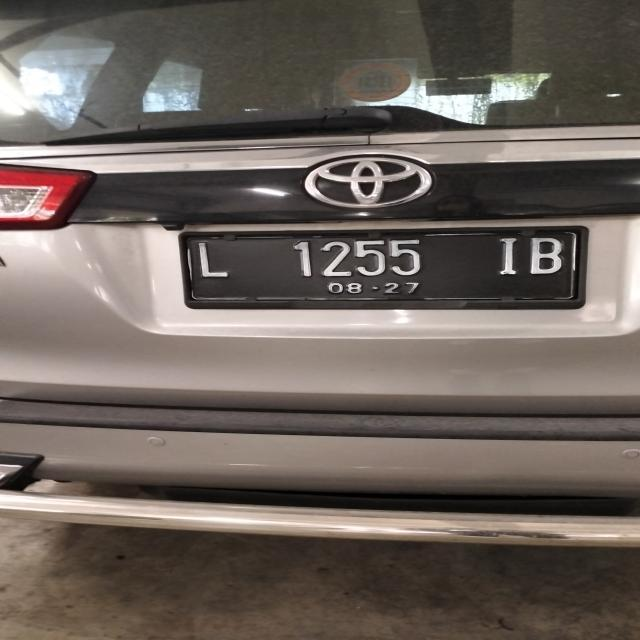1: (284, 237, 322, 280)
2: (322, 236, 356, 284)
5: (352, 236, 388, 278), (388, 236, 424, 278)
B: (524, 234, 574, 281)
I: (498, 233, 520, 280)
L: (184, 238, 232, 279)
